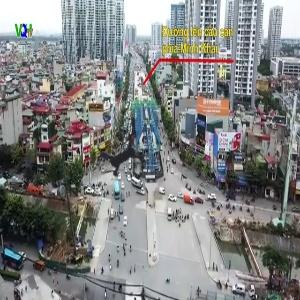drone: (74, 110, 169, 205)
